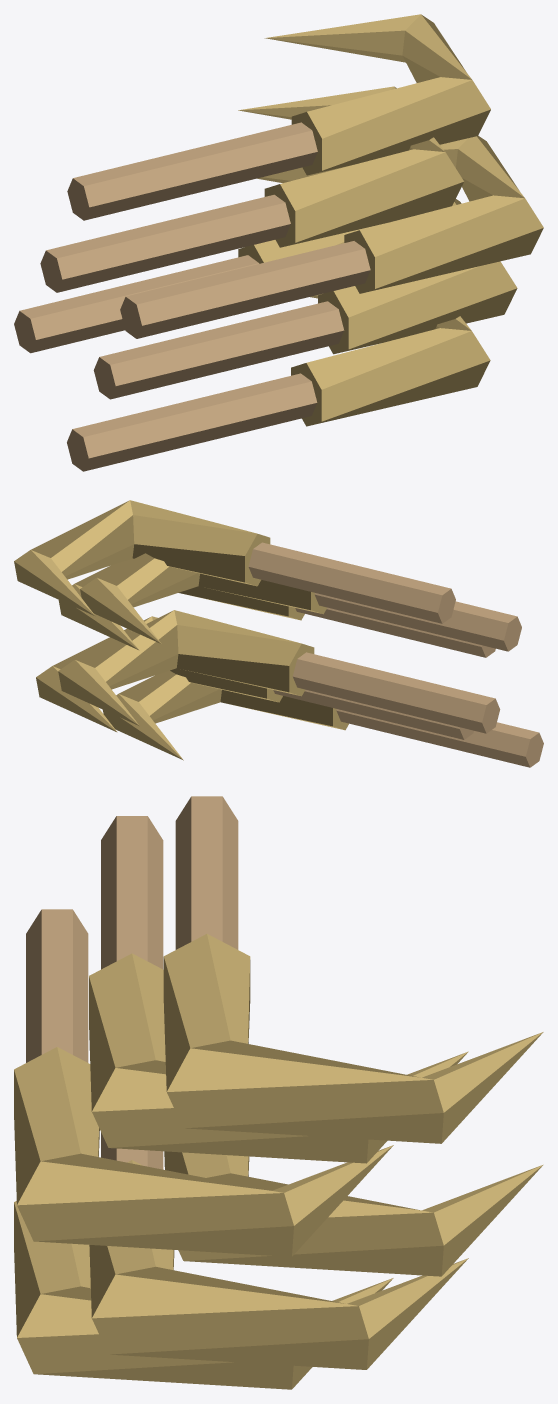
The model's file is item_084_bronze_sickle_l.glb.
3 views of the same model, one above another, from view 1: azimuth 30°, elevation 25°; view 2: azimuth 150°, elevation 25°; view 3: azimuth 270°, elevation 25° (orthographic). The views are drawn at different scales.
Parts seen in each view (by area): view 1: item_084_bronze_sickle_l; view 2: item_084_bronze_sickle_l; view 3: item_084_bronze_sickle_l.
Part boxes in pixels (bbox=[...]): item_084_bronze_sickle_l: bbox=[14, 14, 543, 471]; item_084_bronze_sickle_l: bbox=[14, 500, 543, 767]; item_084_bronze_sickle_l: bbox=[14, 796, 543, 1389].
Size of the model in its own units: 0.6464 by 0.33 by 0.4246.
